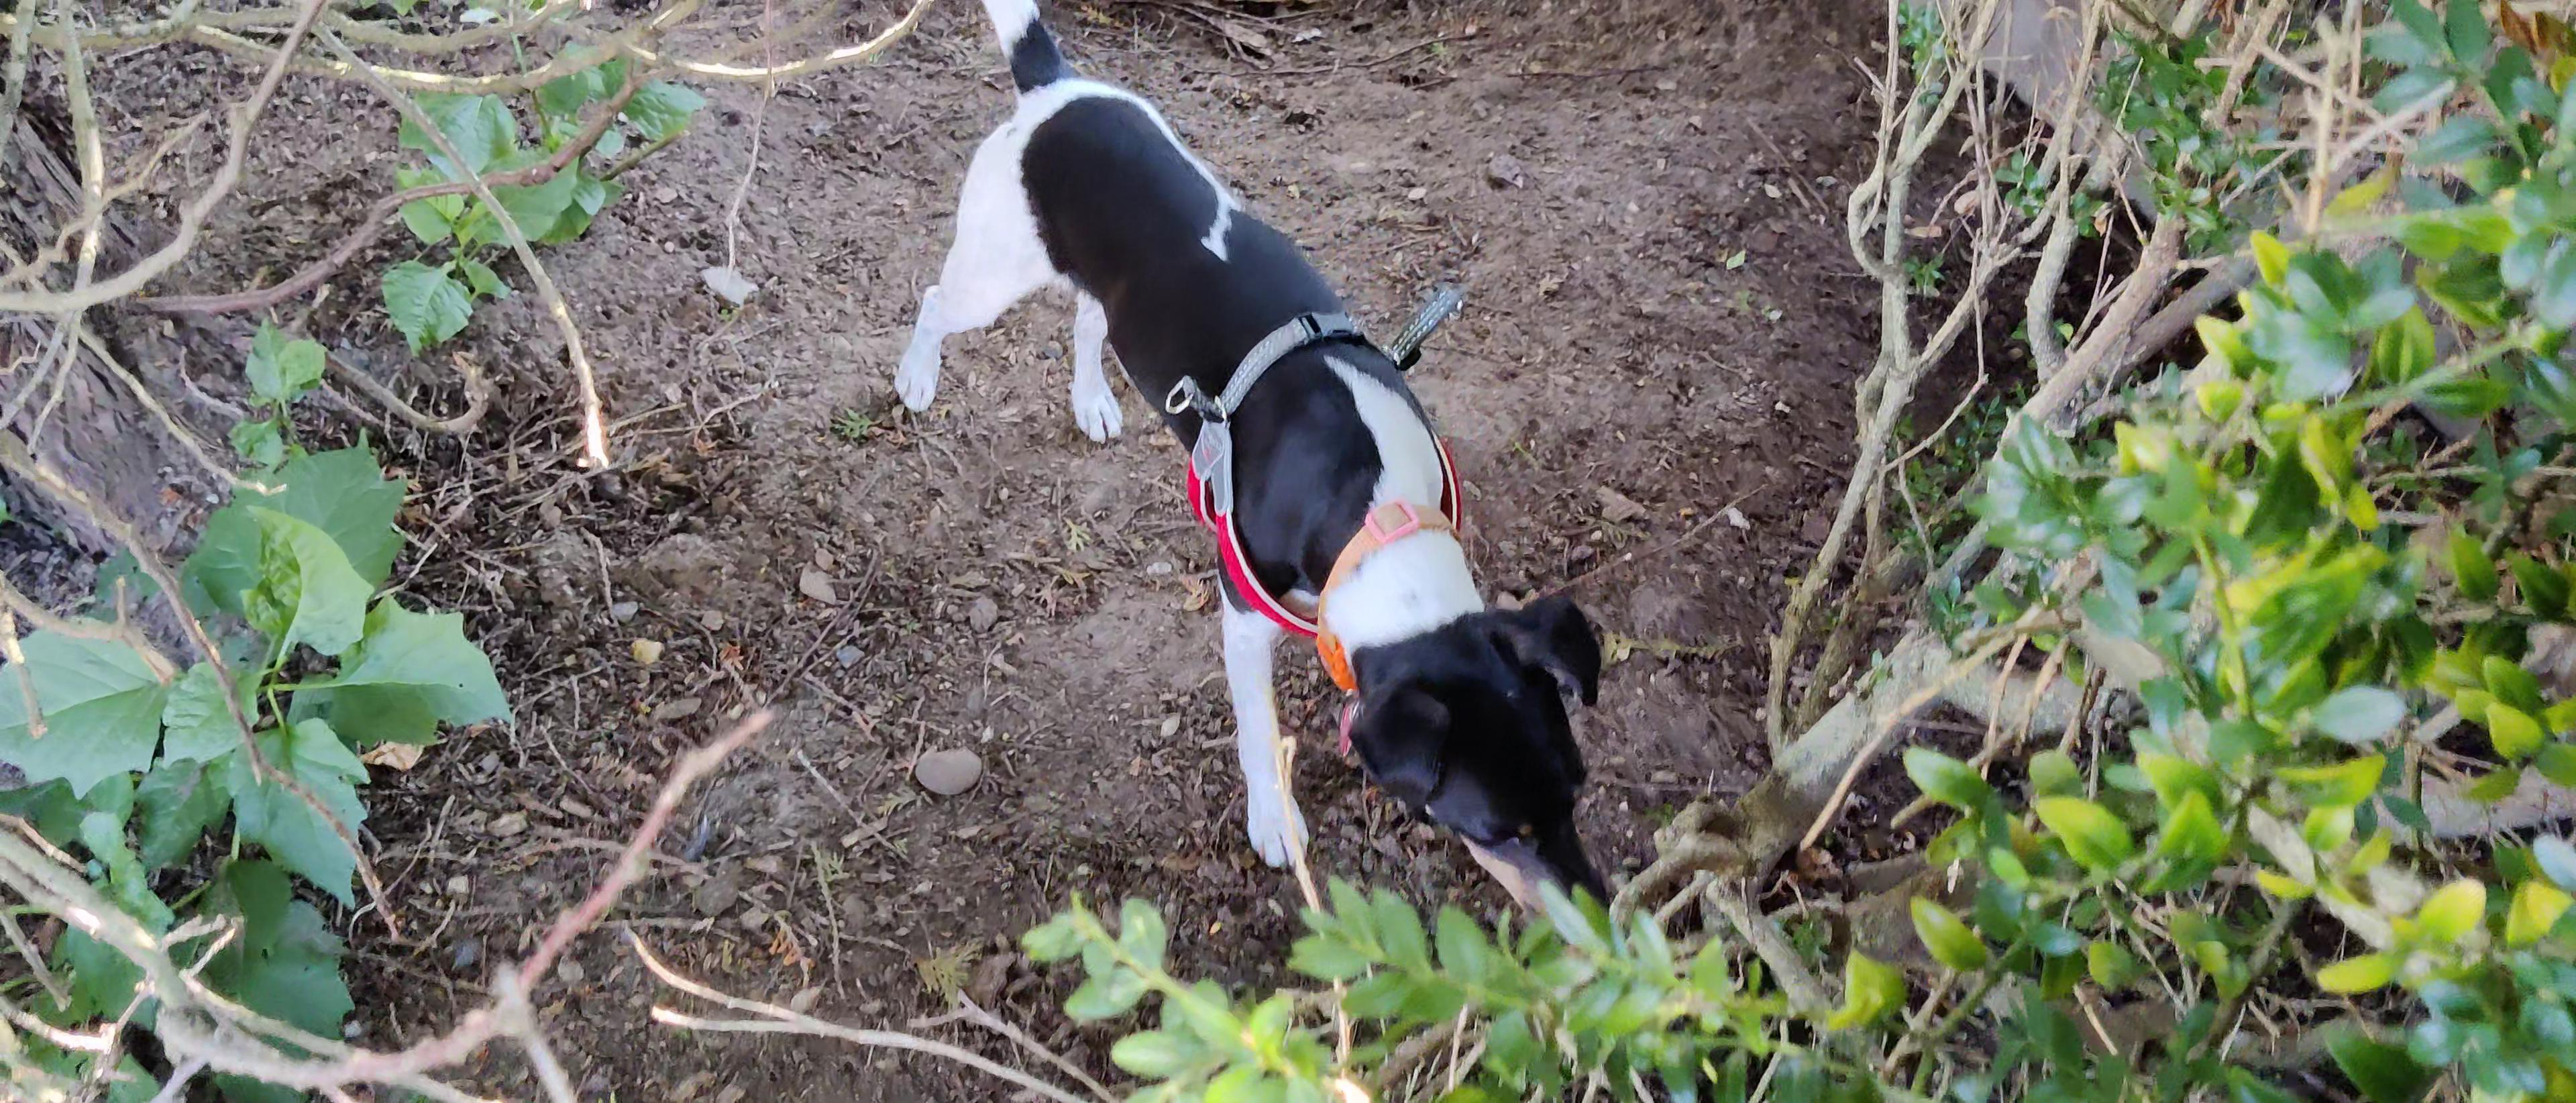Dog: (874, 0, 1664, 967)
